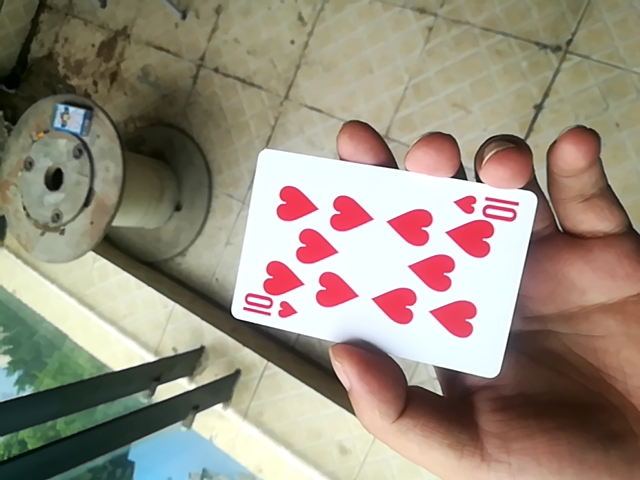hx 10: (234, 145, 531, 378)
